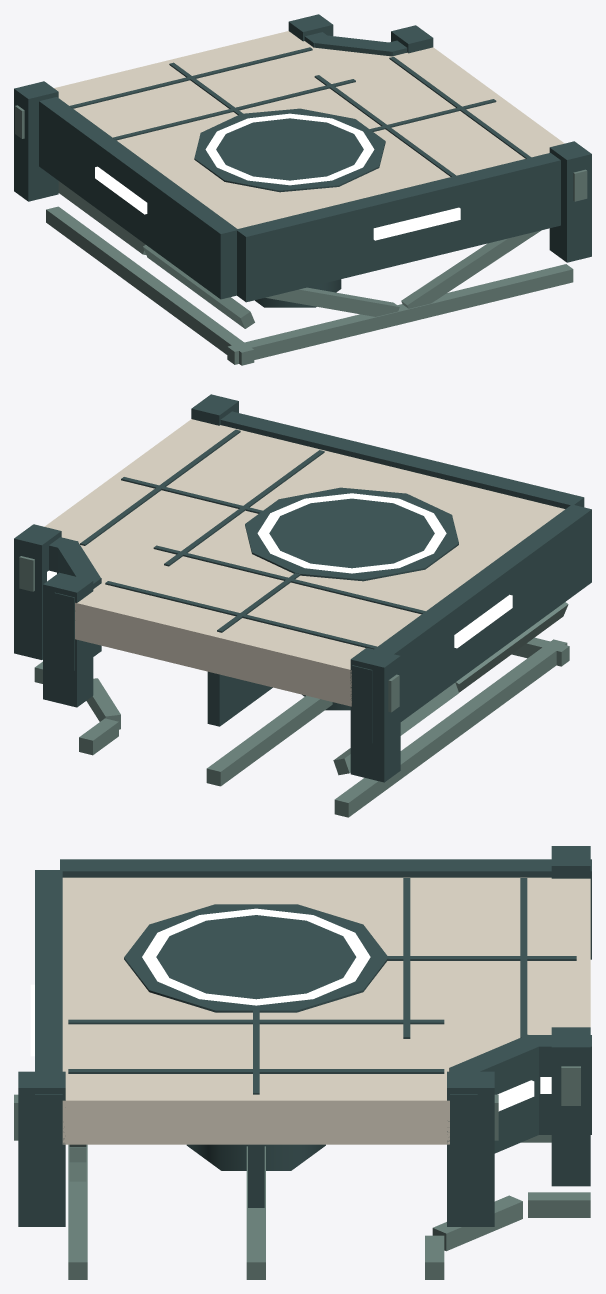
Rendered from Junction_L_lab.glb.
The picture shows the model from 3 angles, top to bottom: view 1: azimuth 30°, elevation 25°; view 2: azimuth 150°, elevation 25°; view 3: azimuth 270°, elevation 25°; orthographic projection. The views are drawn at different scales.
Parts seen in each view (by area): view 1: Junction_L; view 2: Junction_L; view 3: Junction_L.
Boxes of the visible parts, left/top/right/bottom form: Junction_L: left=14, top=14, right=591, bottom=365; Junction_L: left=14, top=394, right=591, bottom=817; Junction_L: left=14, top=846, right=591, bottom=1279.
Size of the model in its own units: 4.15 by 1.58 by 4.15.
